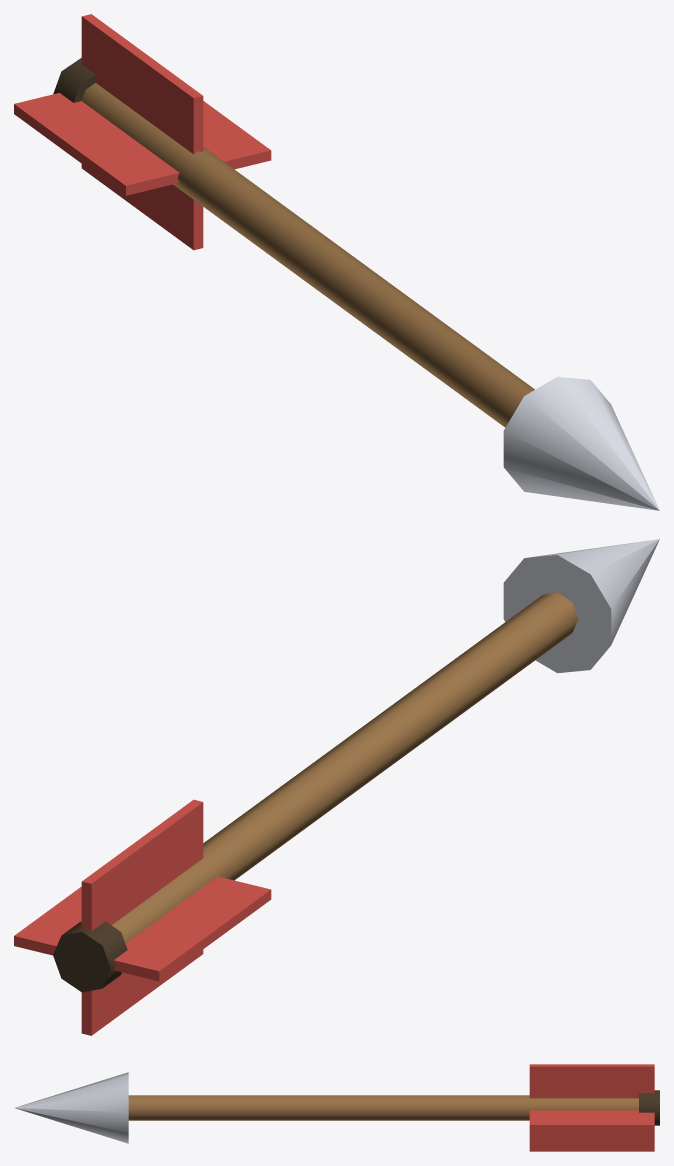
The model's file is fleche.glb.
3 renders of one model, top to bottom at view 1: azimuth 30°, elevation 25°; view 2: azimuth 150°, elevation 25°; view 3: azimuth 270°, elevation 25°, orthographic. The views are drawn at different scales.
Parts seen in each view (by area): view 1: hampe, pointe, plume_h, plume_b, encoche; view 2: hampe, pointe, plume_h, plume_b, encoche; view 3: hampe, plume_h, pointe, plume_b, encoche.
Part boxes in pixels (x1,y1,x2,y2): hampe: [82, 83, 534, 427]; pointe: [503, 376, 659, 510]; plume_h: [81, 14, 203, 250]; plume_b: [14, 93, 271, 195]; encoche: [53, 58, 95, 102]; hampe: [111, 592, 578, 943]; pointe: [503, 539, 659, 673]; plume_h: [81, 799, 203, 1035]; plume_b: [14, 876, 271, 981]; encoche: [53, 921, 127, 992]; hampe: [128, 1095, 638, 1120]; plume_h: [529, 1064, 654, 1151]; pointe: [15, 1072, 128, 1143]; plume_b: [529, 1110, 654, 1130]; encoche: [639, 1090, 659, 1125].
Bounding box in the file's own units: 0.09 × 0.09 × 0.62.
